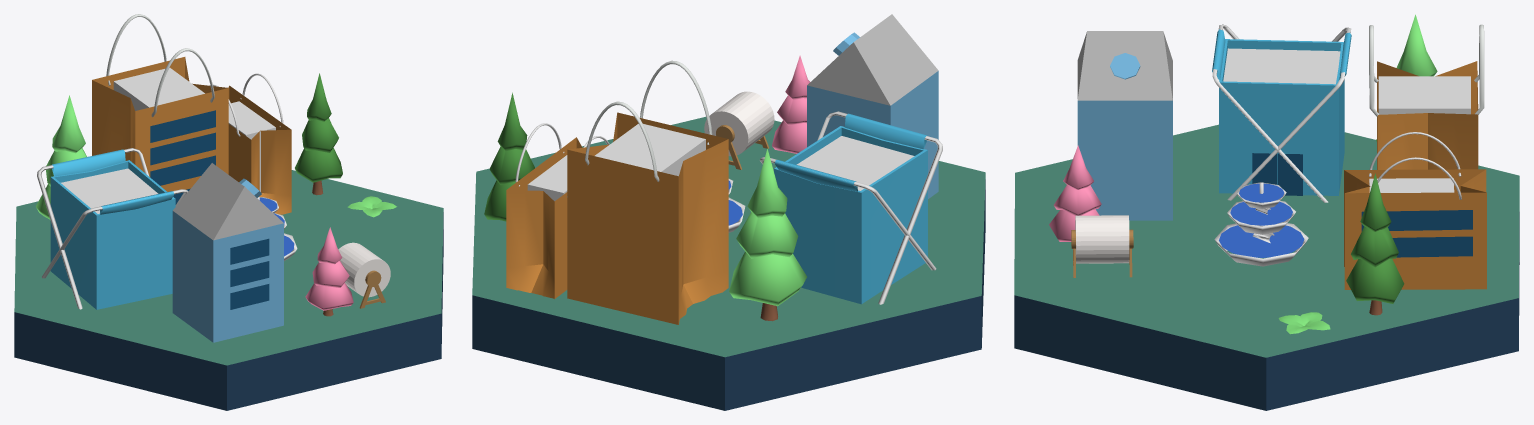
File: Macro - Shop lvl 3 WM2.fbx
3 renders of one model, left to right at view 1: azimuth 30°, elevation 25°; view 2: azimuth 150°, elevation 25°; view 3: azimuth 270°, elevation 25°, orthographic. The views are drawn at different scales.
Visible parts, largest first — view 1: Cylinder.179, bathroom_item_001.001, milkbox1.012, Circle.006, Circle.005, Tree_Spruce_tiny_01.007, Tree_Spruce_tiny_01.001, Plane.122, Cube.138, Tree_Spruce_tiny_01.005, Cylinder.001, Plane.007 (+8 smaller); view 2: Cylinder.179, Circle.006, bathroom_item_001.001, milkbox1.012, Circle.005, Tree_Spruce_tiny_01.005, Cube.138, Plane.122, Tree_Spruce_tiny_01.007, Cylinder.001, Tree_Spruce_tiny_01.001, Cube.139 (+1 smaller); view 3: Cylinder.179, milkbox1.012, bathroom_item_001.001, Circle.005, Circle.006, Cube.018, Tree_Spruce_tiny_01.007, Plane.122, Cube.138, Cylinder.001, Tree_Spruce_tiny_01.001, Plane.004 (+6 smaller).
Part boxes in pixels (left/top/right/bottom): Cylinder.179: left=14, top=170, right=443, bottom=410; bathroom_item_001.001: left=37, top=148, right=188, bottom=309; milkbox1.012: left=172, top=163, right=283, bottom=342; Circle.006: left=92, top=14, right=228, bottom=191; Circle.005: left=210, top=73, right=291, bottom=214; Tree_Spruce_tiny_01.007: left=295, top=73, right=342, bottom=195; Tree_Spruce_tiny_01.001: left=305, top=227, right=353, bottom=316; Plane.122: left=61, top=168, right=158, bottom=213; Cube.138: left=113, top=67, right=204, bottom=110; Tree_Spruce_tiny_01.005: left=36, top=95, right=86, bottom=219; Cylinder.001: left=338, top=242, right=390, bottom=297; Plane.007: left=150, top=110, right=215, bottom=142; Cylinder.179: left=472, top=116, right=985, bottom=410; Circle.006: left=567, top=60, right=728, bottom=324; bathroom_item_001.001: left=759, top=111, right=942, bottom=304; milkbox1.012: left=807, top=14, right=938, bottom=198; Circle.005: left=506, top=123, right=609, bottom=298; Tree_Spruce_tiny_01.005: left=729, top=148, right=806, bottom=321; Cube.138: left=595, top=124, right=705, bottom=176; Plane.122: left=796, top=136, right=914, bottom=190; Tree_Spruce_tiny_01.007: left=484, top=92, right=534, bottom=221; Cylinder.001: left=704, top=91, right=774, bottom=156; Tree_Spruce_tiny_01.001: left=772, top=55, right=810, bottom=153; Cube.139: left=527, top=155, right=567, bottom=201; Cylinder.179: left=1014, top=124, right=1519, bottom=410; milkbox1.012: left=1077, top=31, right=1172, bottom=220; bathroom_item_001.001: left=1212, top=24, right=1351, bottom=202; Circle.005: left=1344, top=132, right=1486, bottom=289; Circle.006: left=1369, top=24, right=1484, bottom=169; Cube.018: left=1214, top=182, right=1308, bottom=266; Tree_Spruce_tiny_01.007: left=1346, top=173, right=1404, bottom=315; Plane.122: left=1223, top=48, right=1340, bottom=84; Cube.138: left=1378, top=76, right=1470, bottom=114; Cylinder.001: left=1075, top=215, right=1129, bottom=263; Tree_Spruce_tiny_01.001: left=1049, top=145, right=1101, bottom=241; Plane.004: left=1361, top=210, right=1472, bottom=231.
Size of the model in its own units: 197 by 98.68 by 172.
